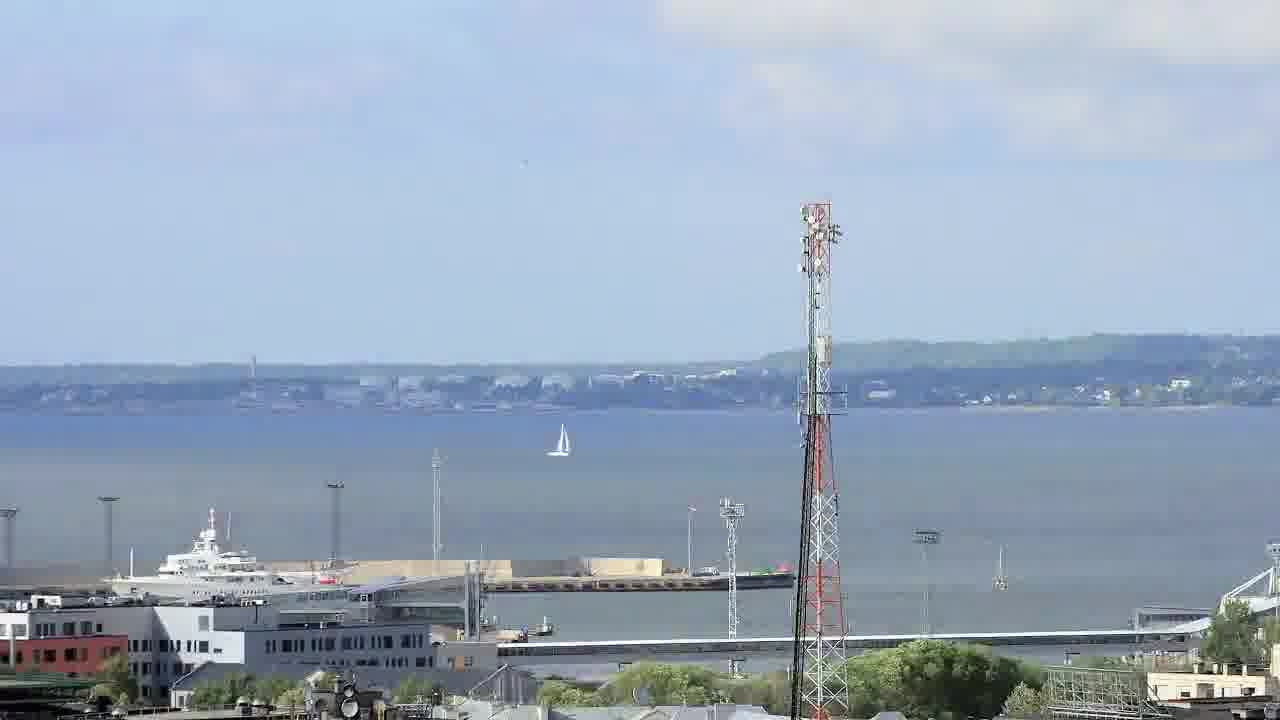type-0: (977, 549, 1027, 601)
type-2: (543, 415, 584, 463)
type-3: (98, 503, 361, 603)
